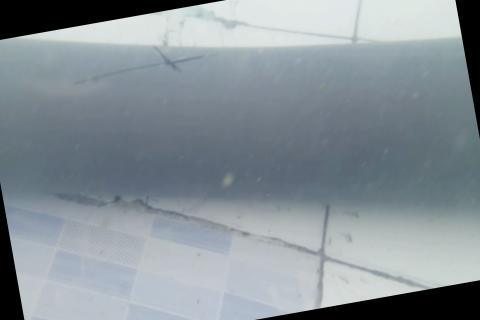keretakan: (70, 39, 209, 94)
